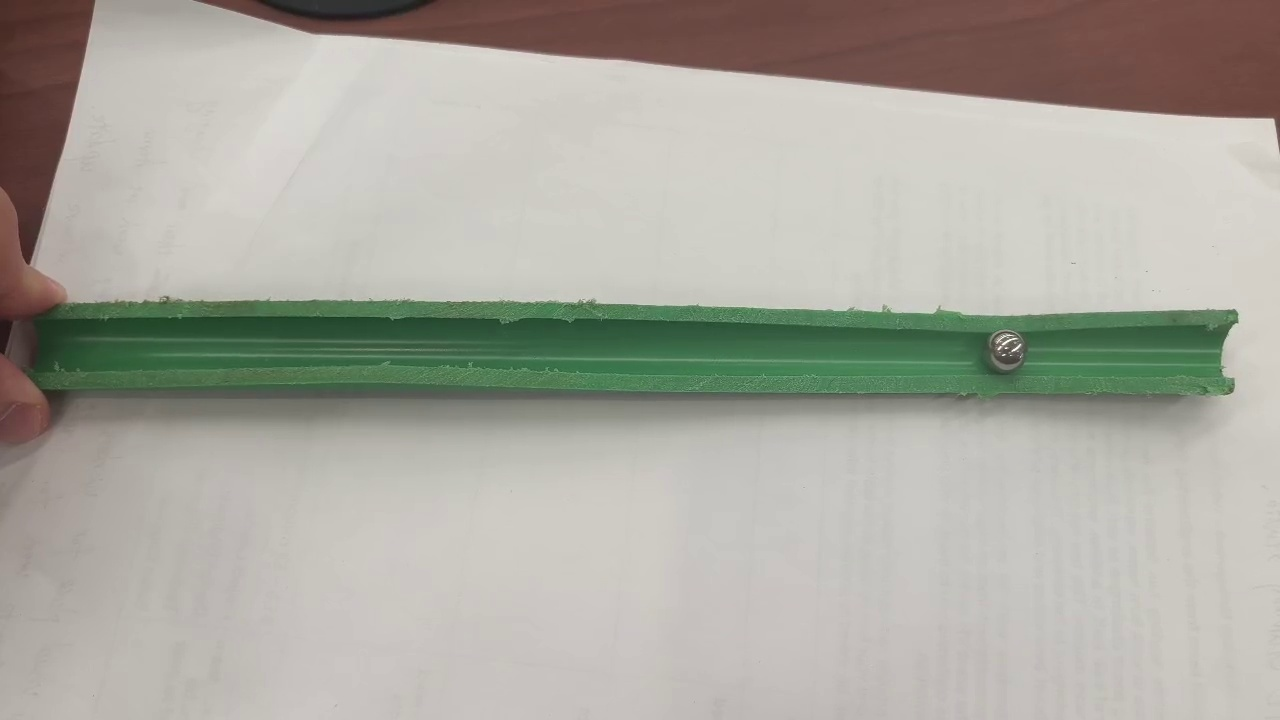ball: (989, 330, 1025, 371)
